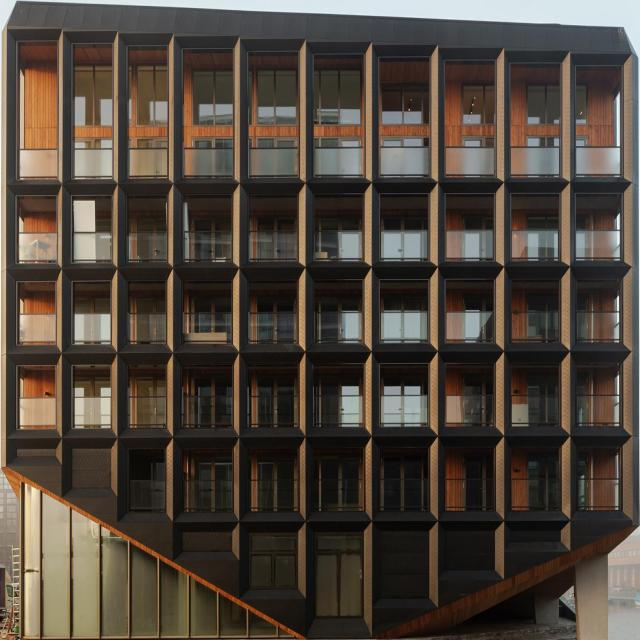Railing: (310, 478, 364, 512), (377, 478, 428, 511), (446, 479, 494, 512), (185, 479, 234, 511), (512, 479, 560, 510), (381, 232, 430, 261), (381, 399, 430, 428), (446, 230, 493, 260), (576, 314, 623, 344), (308, 233, 362, 259), (308, 400, 362, 426), (310, 150, 363, 176), (311, 316, 364, 342), (383, 316, 432, 344), (511, 146, 558, 175), (509, 229, 556, 258), (448, 314, 495, 343), (509, 396, 556, 425), (574, 398, 621, 427), (446, 398, 493, 427), (509, 396, 556, 425), (574, 398, 621, 427), (383, 149, 431, 177), (250, 481, 298, 509), (448, 147, 494, 176), (188, 400, 232, 430), (250, 398, 294, 428), (75, 316, 118, 346), (15, 398, 58, 428), (576, 148, 622, 176), (127, 478, 167, 510), (252, 315, 296, 344), (16, 148, 59, 177), (132, 149, 175, 178), (252, 148, 295, 177), (73, 233, 116, 262), (16, 315, 59, 344), (73, 399, 116, 428), (74, 150, 118, 178), (188, 234, 232, 262), (250, 232, 294, 260), (576, 478, 618, 507), (15, 232, 58, 260), (576, 232, 621, 258), (131, 232, 169, 262), (191, 317, 230, 346), (190, 150, 233, 176), (130, 399, 167, 428), (132, 316, 168, 344)
door: (318, 532, 360, 618)
wall: (1, 1, 639, 639)
windows: (250, 61, 298, 151), (194, 69, 235, 155), (75, 62, 115, 149), (317, 68, 360, 148), (129, 64, 168, 150), (381, 84, 431, 149), (250, 535, 298, 589), (526, 84, 560, 147), (466, 81, 496, 147), (74, 200, 114, 231), (256, 374, 301, 399), (316, 456, 364, 479), (254, 455, 298, 480), (378, 456, 425, 478), (72, 372, 108, 398), (316, 296, 360, 316), (255, 293, 296, 313), (384, 292, 421, 314), (196, 378, 232, 400), (527, 457, 561, 480), (313, 218, 366, 232), (576, 85, 588, 146), (134, 375, 164, 399), (383, 217, 430, 232), (320, 381, 360, 398), (192, 298, 232, 315), (384, 379, 423, 396), (465, 456, 495, 478), (74, 296, 110, 314), (462, 376, 494, 396), (194, 218, 234, 234), (526, 294, 560, 312), (464, 293, 495, 312), (133, 298, 167, 315), (197, 464, 232, 480), (528, 376, 558, 394), (136, 461, 166, 478), (259, 218, 299, 230), (461, 218, 495, 232), (138, 218, 167, 232), (576, 291, 594, 313), (529, 215, 557, 228), (574, 371, 586, 398), (574, 455, 584, 475), (576, 215, 590, 229)
